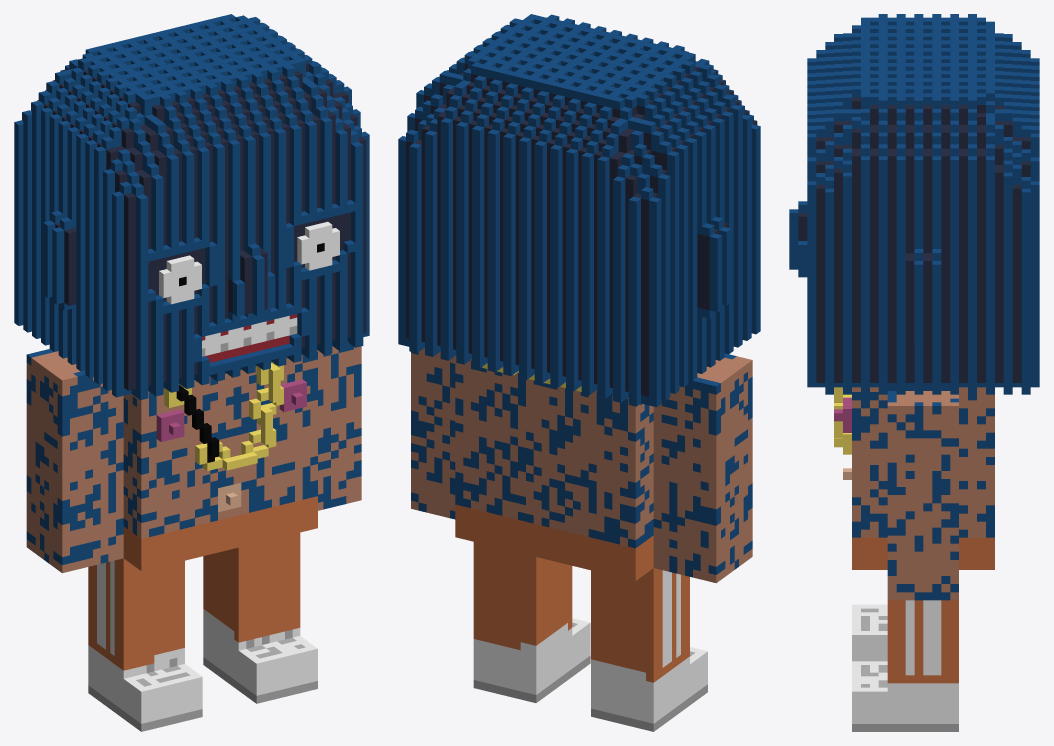
The model's file is rapper.glb.
3 views of the same model, side by side, from view 1: azimuth 30°, elevation 25°; view 2: azimuth 150°, elevation 25°; view 3: azimuth 270°, elevation 25° (orthographic). The views are drawn at different scales.
Parts seen in each view (by area): view 1: Rapper_Vox.vox-0; view 2: Rapper_Vox.vox-0; view 3: Rapper_Vox.vox-0.
Part boxes in pixels (box(x1,y1,x2,y2)): Rapper_Vox.vox-0: box(14, 14, 369, 731); Rapper_Vox.vox-0: box(398, 14, 760, 731); Rapper_Vox.vox-0: box(789, 14, 1039, 731).
Size of the model in its own units: 3.9 by 7.8 by 2.8.
Materials: 1 (1 with a texture image).
